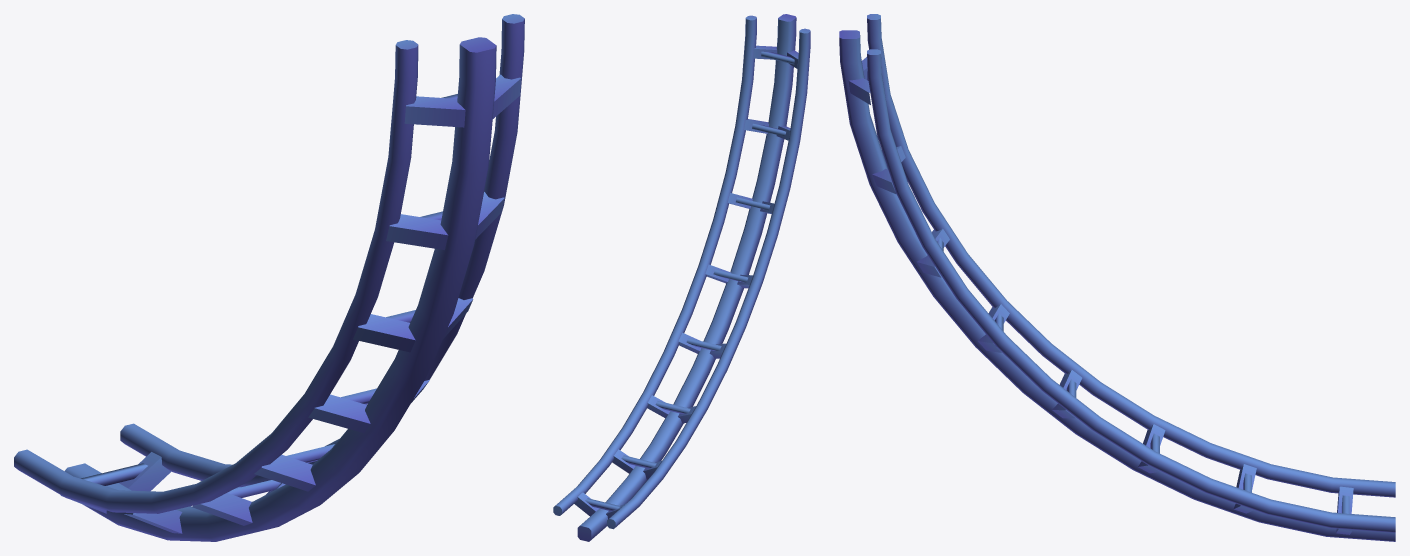
Rendered from kenney-coaster-coaster-steel-straight-bend-large.glb.
3 views of the same model, side by side, from view 1: azimuth 30°, elevation 25°; view 2: azimuth 150°, elevation 25°; view 3: azimuth 270°, elevation 25° (orthographic). The views are drawn at different scales.
Visible parts, largest first — view 1: coaster-steel-straight-bend-large; view 2: coaster-steel-straight-bend-large; view 3: coaster-steel-straight-bend-large.
Part boxes in pixels (x1,y1,x2,y2): coaster-steel-straight-bend-large: (14,14,524,541); coaster-steel-straight-bend-large: (553,14,810,541); coaster-steel-straight-bend-large: (839,14,1395,541).
Bounding box in the file's own units: 0.7002 × 4 × 4.
Materials: 1 (1 with a texture image).
